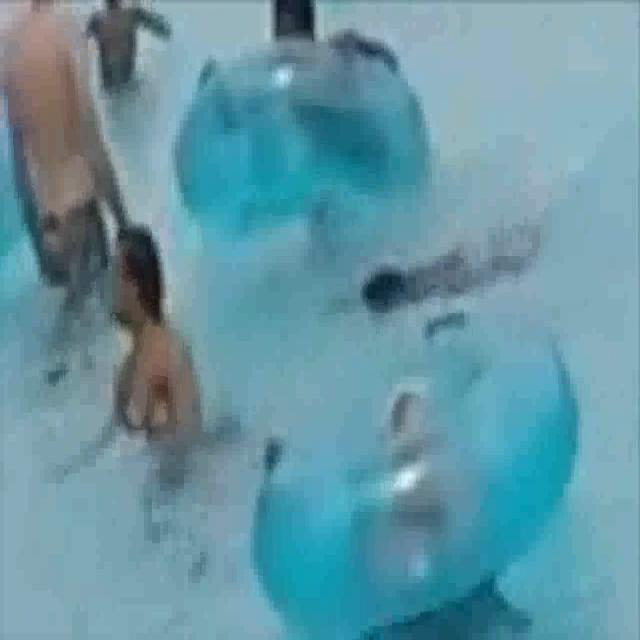drowning: (339, 212, 557, 320)
